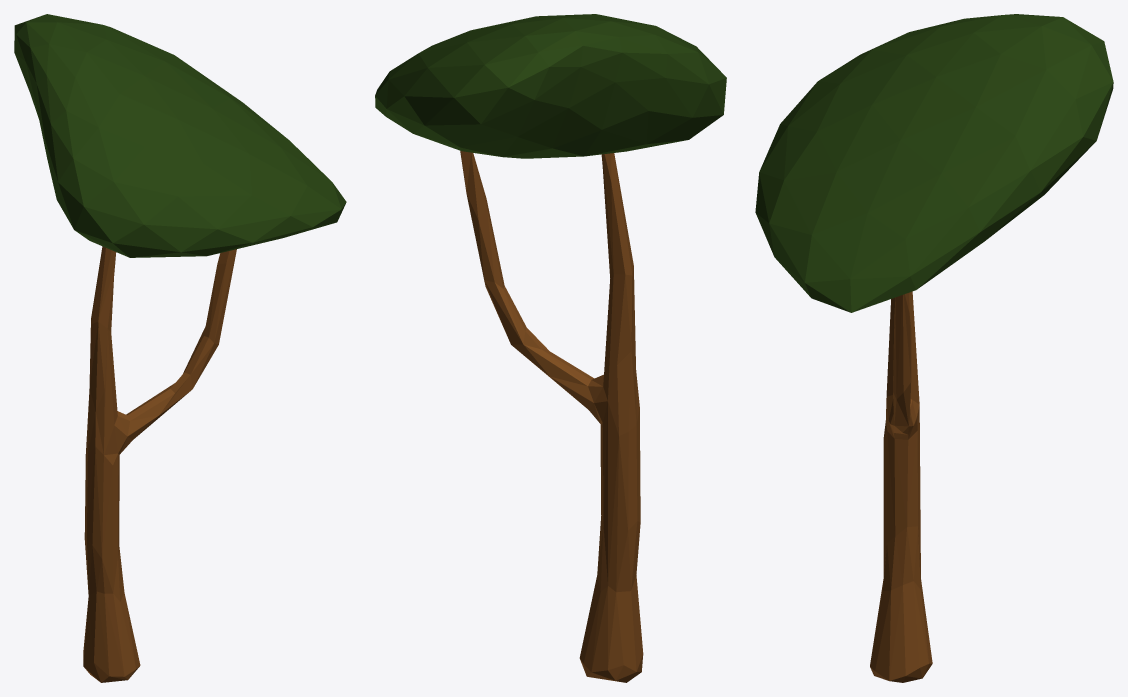
File: SM_tree_regular_02.fbx
The picture shows the model from 3 angles, left to right: view 1: azimuth 30°, elevation 25°; view 2: azimuth 150°, elevation 25°; view 3: azimuth 270°, elevation 25°; orthographic projection. The views are drawn at different scales.
Parts seen in each view (by area): view 1: Object214; view 2: Object214; view 3: Object214.
Boxes of the visible parts, left/top/right/bottom form: Object214: left=14, top=14, right=346, bottom=682; Object214: left=375, top=14, right=726, bottom=682; Object214: left=755, top=14, right=1113, bottom=682.
Bounding box in the file's own units: 140 × 142 × 286.
